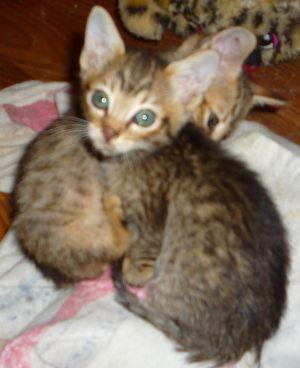bengal: (69, 1, 223, 168)
